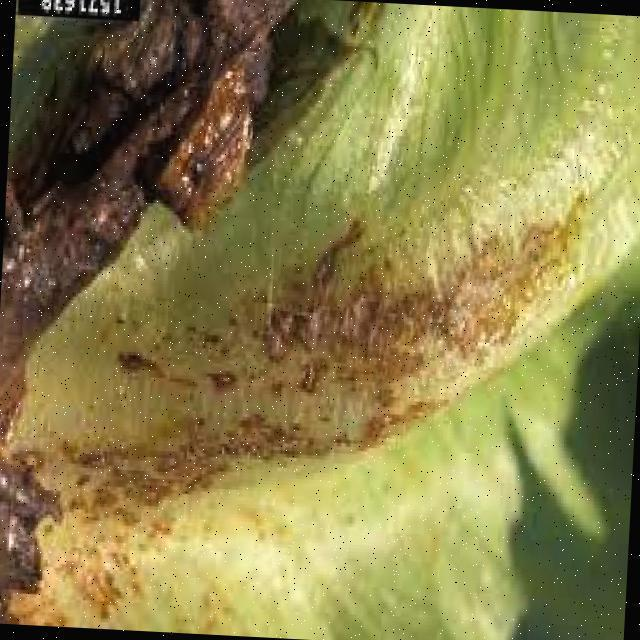Septoria_Blight: (149, 153, 448, 522)
